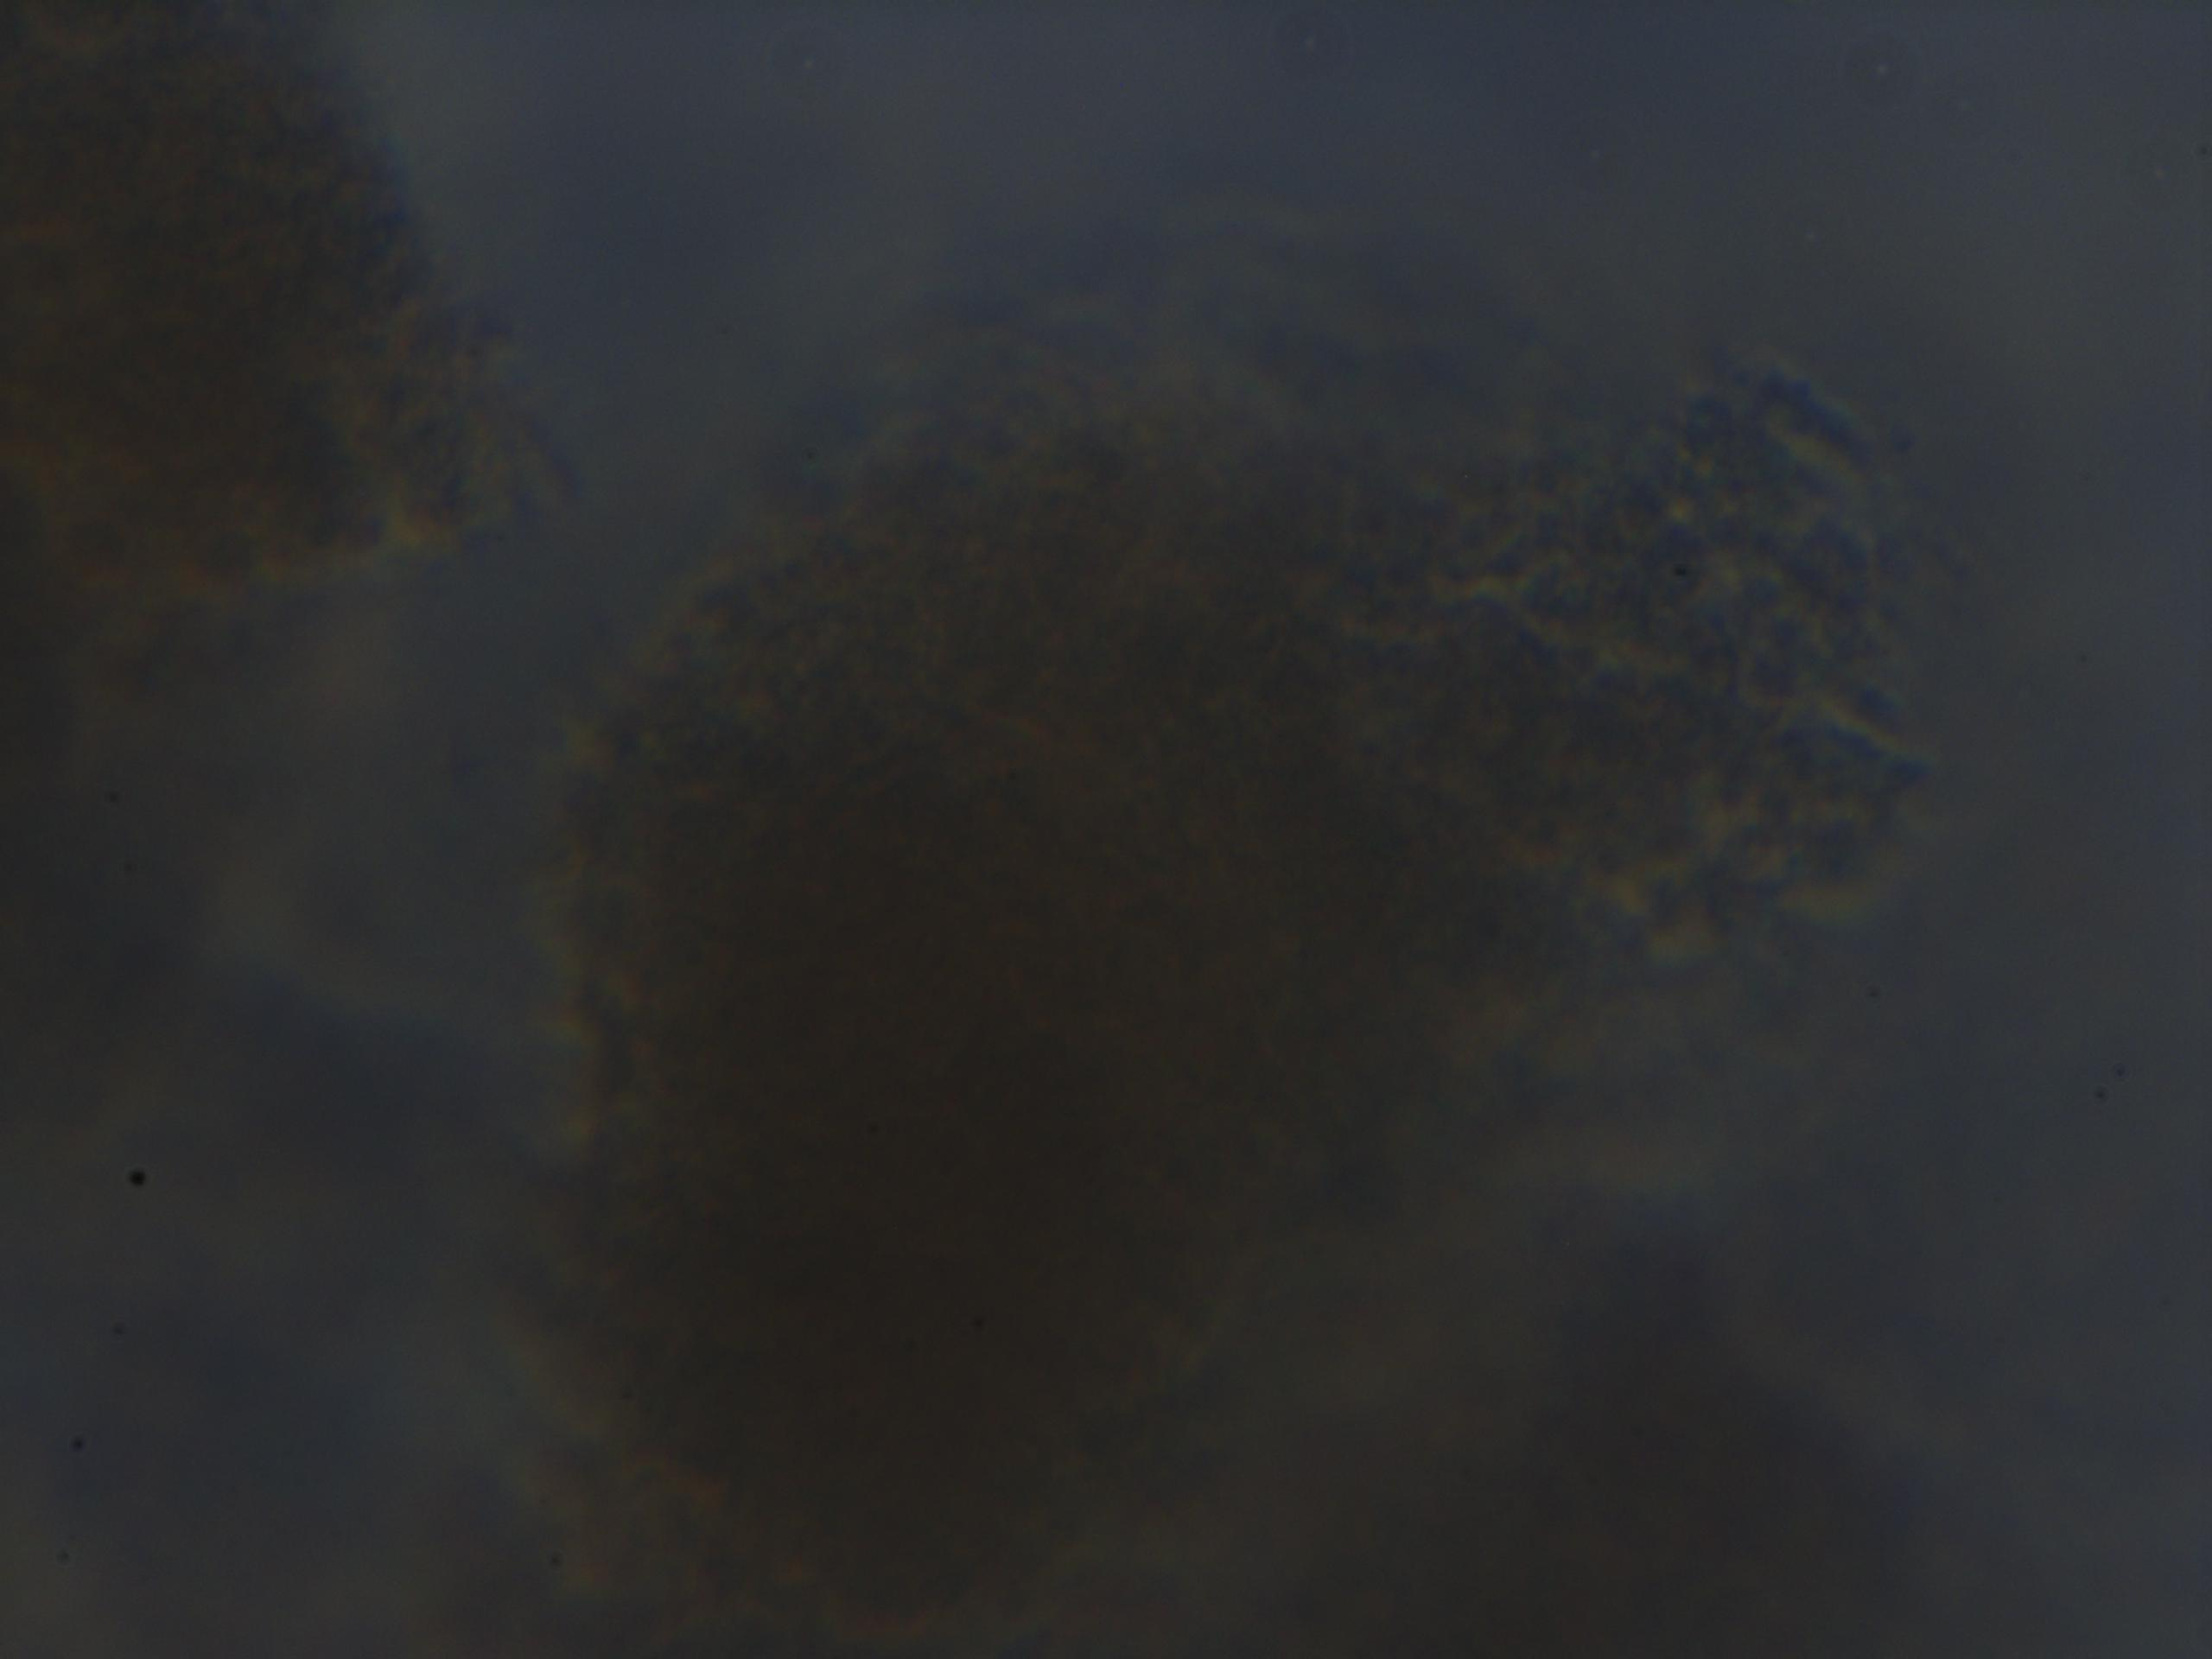spherical_floc: (547, 385, 1566, 1628)
